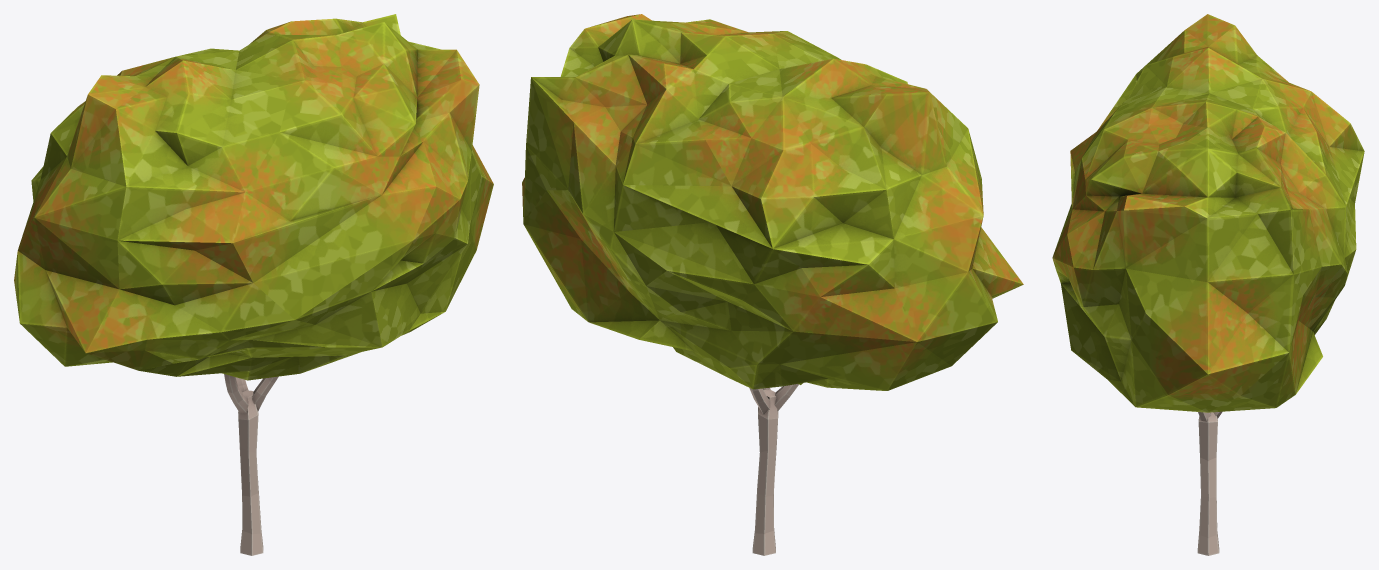
The model's file is c6078bd5-94f5-4aee-b1cb-7ffe3ccb19db.glb.
The picture shows the model from 3 angles, left to right: view 1: azimuth 30°, elevation 25°; view 2: azimuth 150°, elevation 25°; view 3: azimuth 270°, elevation 25°; orthographic projection. The views are drawn at different scales.
Visible parts, largest first — view 1: RubberTree_mesh; view 2: RubberTree_mesh; view 3: RubberTree_mesh.
Part boxes in pixels (<box>): RubberTree_mesh: <box>14,14,493,555</box>; RubberTree_mesh: <box>522,14,1023,555</box>; RubberTree_mesh: <box>1052,14,1364,555</box>.
Size of the model in its own units: 14.74 by 15.04 by 9.03.
1 material, 1 textured.
